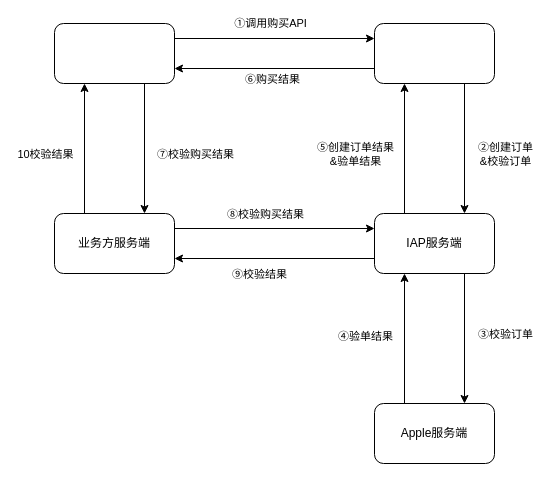
Image size: 550x481. Some labels were removed from this diagram. The centre of each missing label's shape, as x and y in pixels:
SDK: pixel 434 53
业务方App: pixel 114 53
